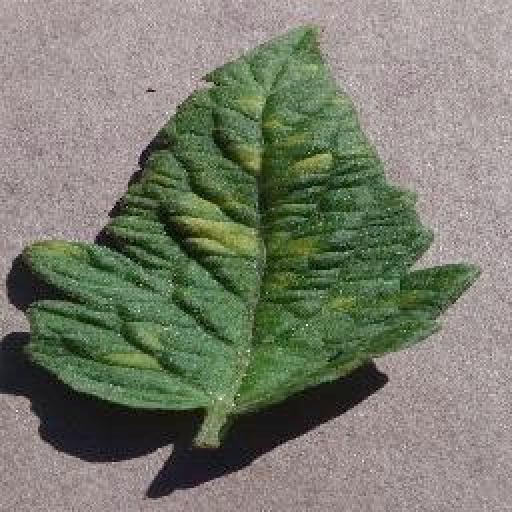disease_tomato: (19, 22, 487, 414)
